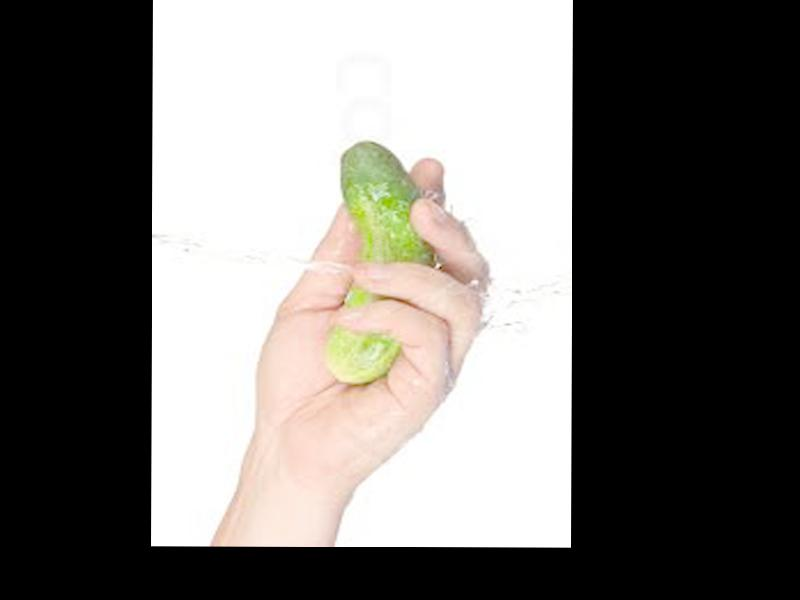Cucumber: (328, 139, 428, 382)
